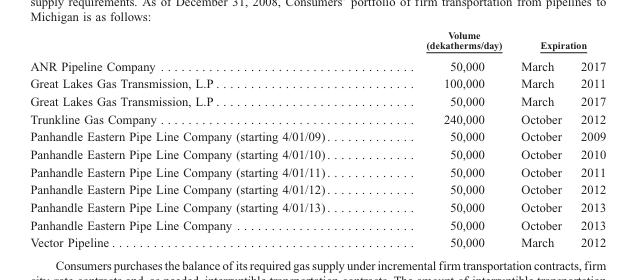table: (29, 29, 605, 249)
table column: (29, 29, 377, 249), (377, 29, 510, 249), (510, 29, 570, 249), (570, 29, 605, 249)
table column header: (29, 29, 605, 74)
table row: (29, 29, 605, 54), (29, 54, 605, 74), (29, 74, 605, 92), (29, 109, 605, 127), (29, 127, 605, 145), (29, 162, 605, 180), (29, 180, 605, 198), (29, 215, 605, 233), (29, 92, 605, 109), (29, 145, 605, 162), (29, 198, 605, 215), (29, 233, 605, 249)
table spanning cell: (29, 29, 377, 74), (377, 29, 510, 74), (510, 29, 605, 54)
